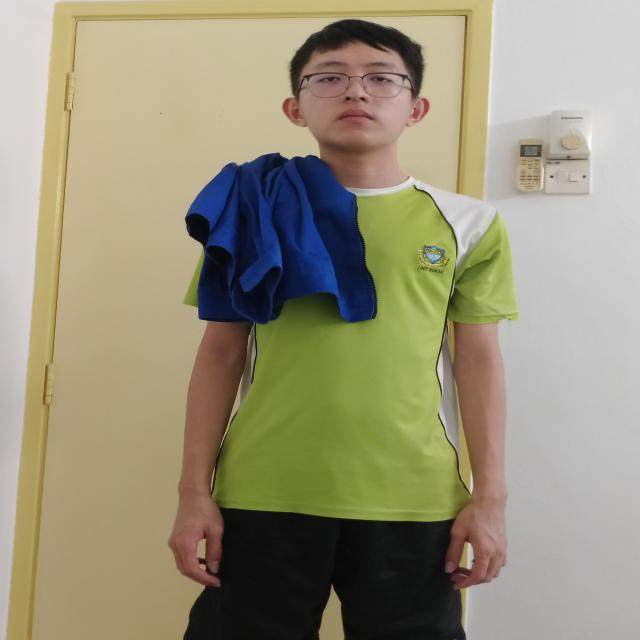person_without_labcoat: (170, 20, 518, 640)
